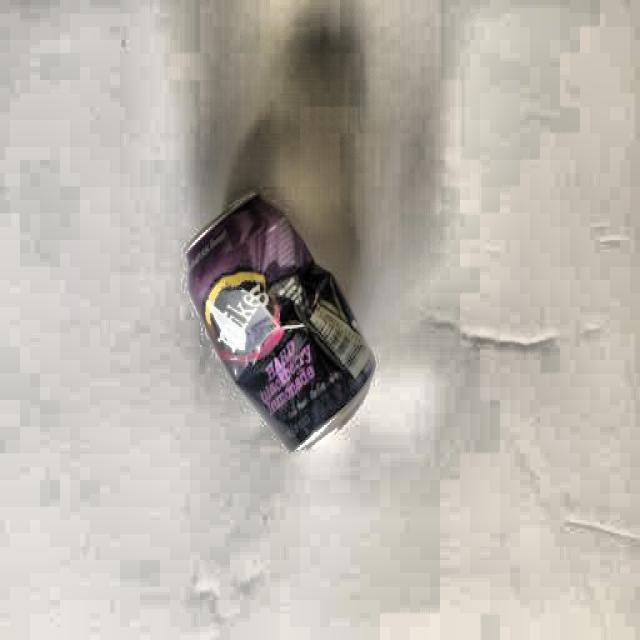metal: (183, 192, 378, 426)
